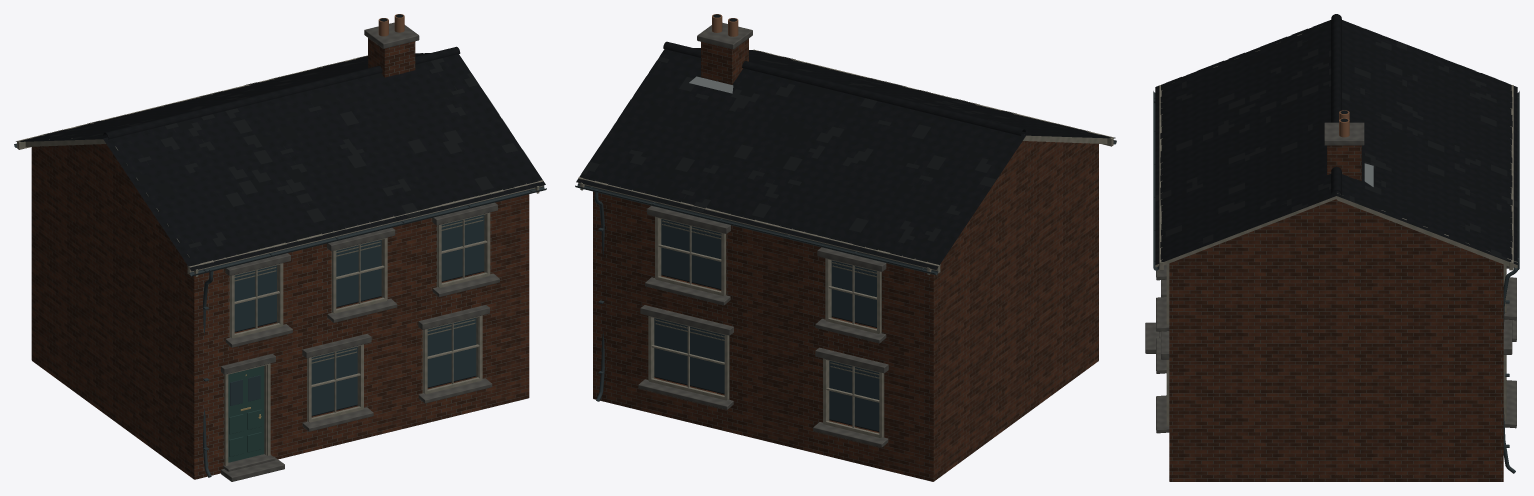
The model's file is terrace-house-v2.glb.
3 views of the same model, side by side, from view 1: azimuth 30°, elevation 25°; view 2: azimuth 150°, elevation 25°; view 3: azimuth 270°, elevation 25° (orthographic). The views are drawn at different scales.
Parts seen in each view (by area): view 1: Terrace / Old red stock brick, Terrace / Rain worn slate, Terrace / Unlit recessed glazing, Terrace / Weathered window paint, Terrace / Cut stone lintels, Terrace / Light slate variation, Terrace / Dark slate variation, Terrace / Dark painted front door, Terrace / Wet iron drainage, Terrace / Curtain through glass; view 2: Terrace / Old red stock brick, Terrace / Rain worn slate, Terrace / Unlit recessed glazing, Terrace / Weathered window paint, Terrace / Cut stone lintels, Terrace / Dark slate variation, Terrace / Light slate variation, Terrace / Wet iron drainage, Terrace / Curtain through glass; view 3: Terrace / Old red stock brick, Terrace / Rain worn slate, Terrace / Light slate variation, Terrace / Dark slate variation, Terrace / Cut stone lintels, Terrace / Weathered window paint, Terrace / Wet iron drainage.
Part boxes in pixels (bbox=[...]): Terrace / Old red stock brick: bbox=[31, 38, 529, 479]; Terrace / Rain worn slate: bbox=[16, 46, 545, 271]; Terrace / Unlit recessed glazing: bbox=[230, 215, 484, 415]; Terrace / Weathered window paint: bbox=[17, 55, 543, 466]; Terrace / Cut stone lintels: bbox=[221, 22, 499, 481]; Terrace / Light slate variation: bbox=[49, 58, 517, 250]; Terrace / Dark slate variation: bbox=[84, 53, 494, 244]; Terrace / Dark painted front door: bbox=[228, 366, 264, 462]; Terrace / Wet iron drainage: bbox=[14, 143, 546, 477]; Terrace / Curtain through glass: bbox=[234, 216, 483, 363]; Terrace / Old red stock brick: bbox=[593, 38, 1098, 481]; Terrace / Rain worn slate: bbox=[576, 41, 1115, 269]; Terrace / Unlit recessed glazing: bbox=[654, 219, 879, 431]; Terrace / Weathered window paint: bbox=[578, 49, 1113, 438]; Terrace / Cut stone lintels: bbox=[638, 22, 888, 447]; Terrace / Dark slate variation: bbox=[643, 56, 1051, 230]; Terrace / Light slate variation: bbox=[581, 54, 1090, 243]; Terrace / Wet iron drainage: bbox=[575, 140, 1116, 401]; Terrace / Curtain through glass: bbox=[655, 220, 879, 378]; Terrace / Old red stock brick: bbox=[1169, 145, 1503, 481]; Terrace / Rain worn slate: bbox=[1155, 14, 1517, 264]; Terrace / Light slate variation: bbox=[1155, 40, 1517, 259]; Terrace / Dark slate variation: bbox=[1155, 37, 1517, 235]; Terrace / Cut stone lintels: bbox=[1145, 122, 1516, 433]; Terrace / Weathered window paint: bbox=[1155, 34, 1517, 426]; Terrace / Wet iron drainage: bbox=[1153, 91, 1519, 473].
Size of the model in its own units: 8.04 by 7.17 by 7.17.
Materials: 14 (4 with a texture image).
